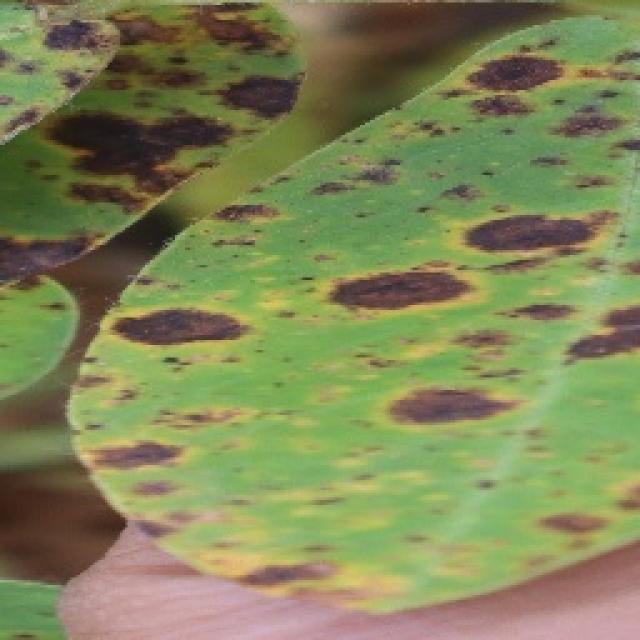Yellowish: (0, 0, 640, 594)
